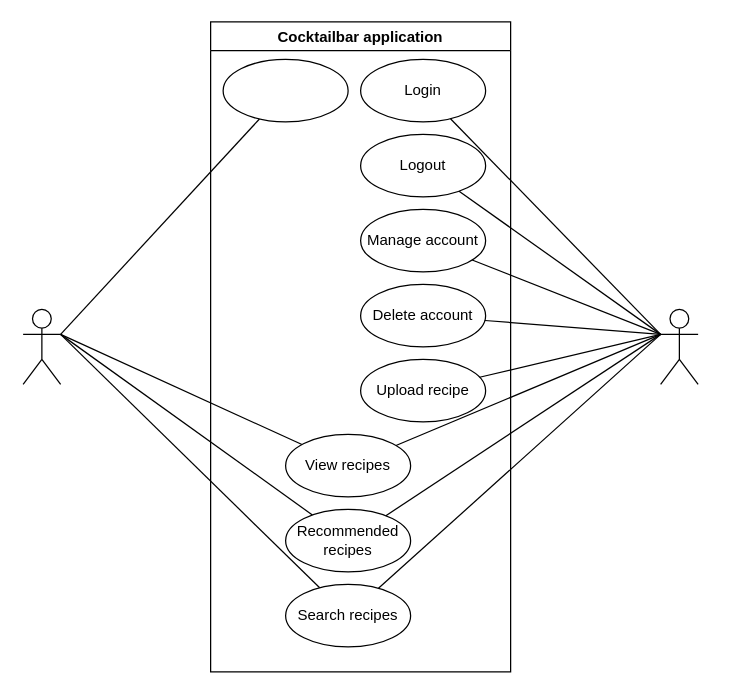
The diagram is 729 pixels wide and 694 high, and some of its shapes have lost their labels. The box of each missing label's shape, as (x1, y1, x2, y2) in pixels:
Member: (659, 308, 698, 384)
Register: (222, 58, 348, 122)
Visitör: (22, 308, 61, 384)
